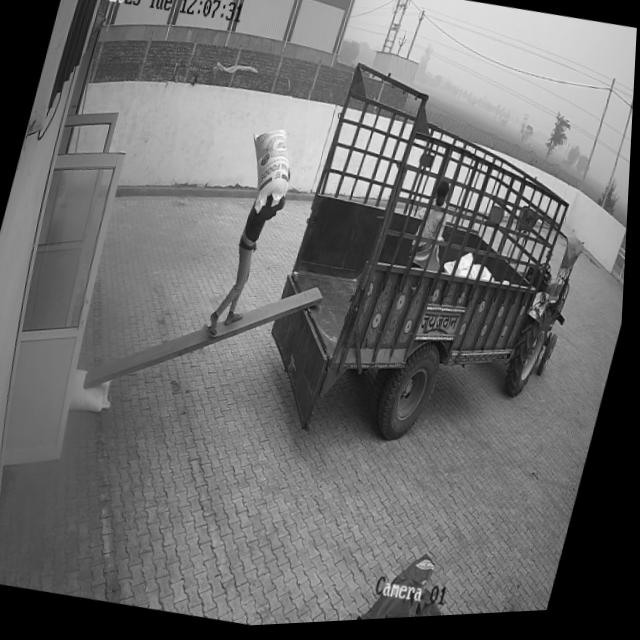sack: (236, 126, 303, 221), (69, 365, 122, 417)
